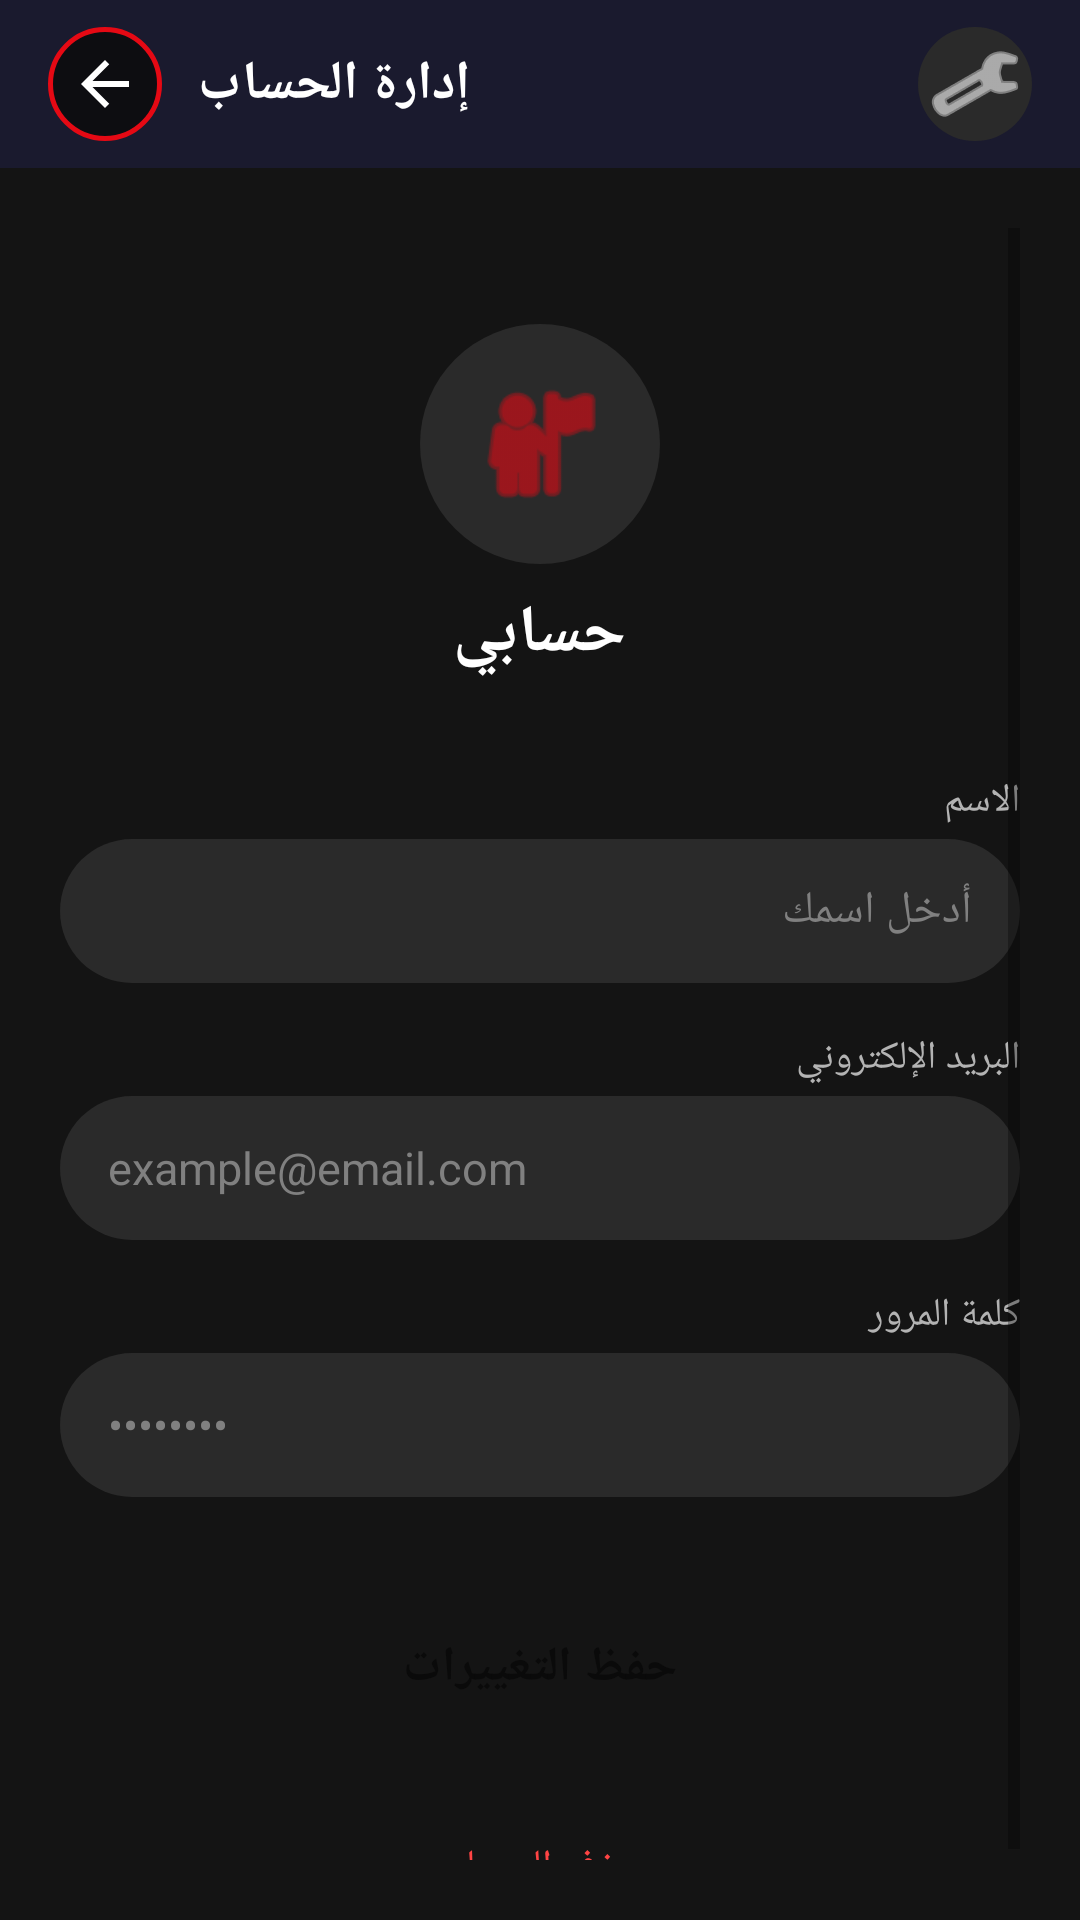

Icon bounding boxes for this 1080px x 1920px phone screenshot, format box=[x1, y1, x2, y2]:
back arrow: box=[48, 27, 162, 141]
myplaces: box=[487, 389, 596, 499]
الإعدادات: box=[918, 27, 1032, 141]
